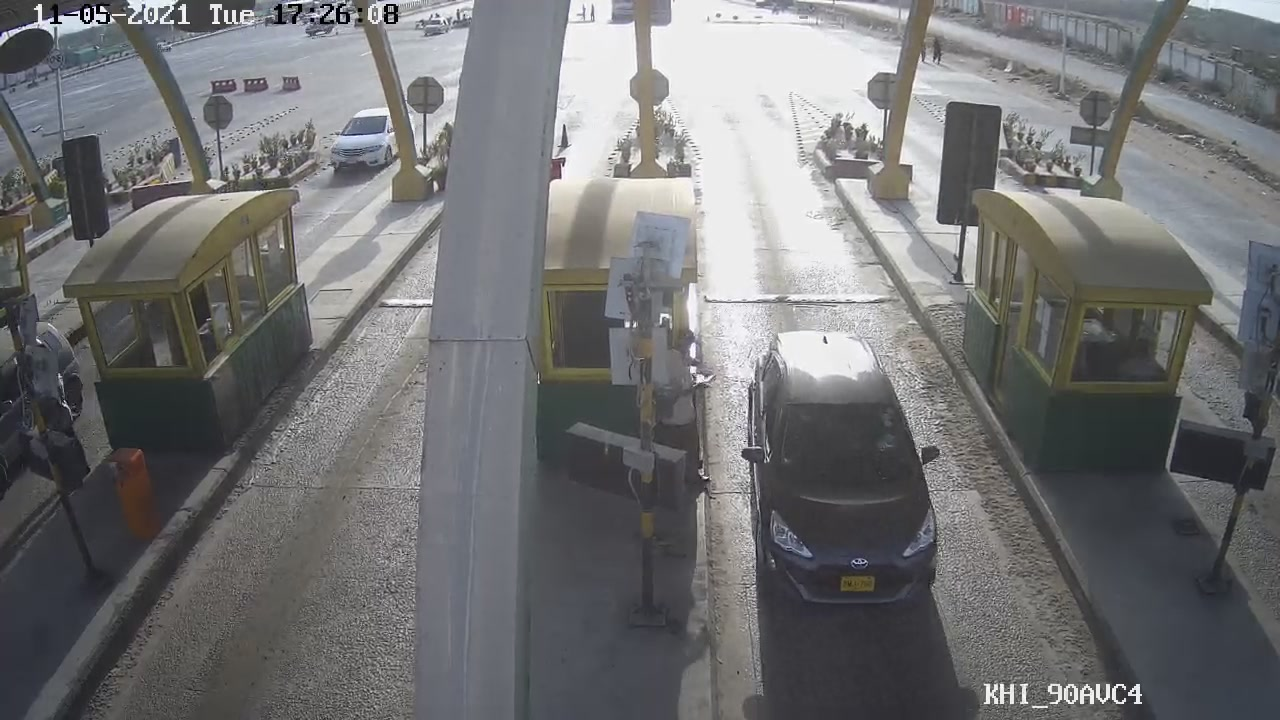F1: (736, 323, 954, 616)
